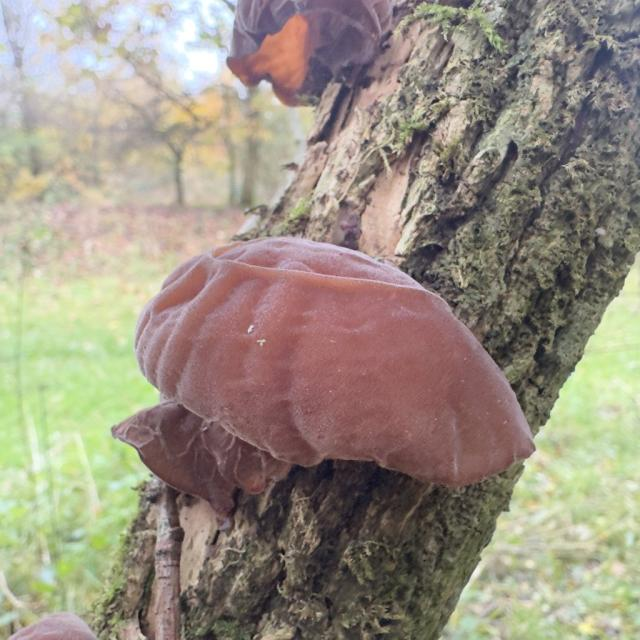Matang: (125, 230, 539, 490), (108, 398, 292, 533), (218, 0, 398, 109)
